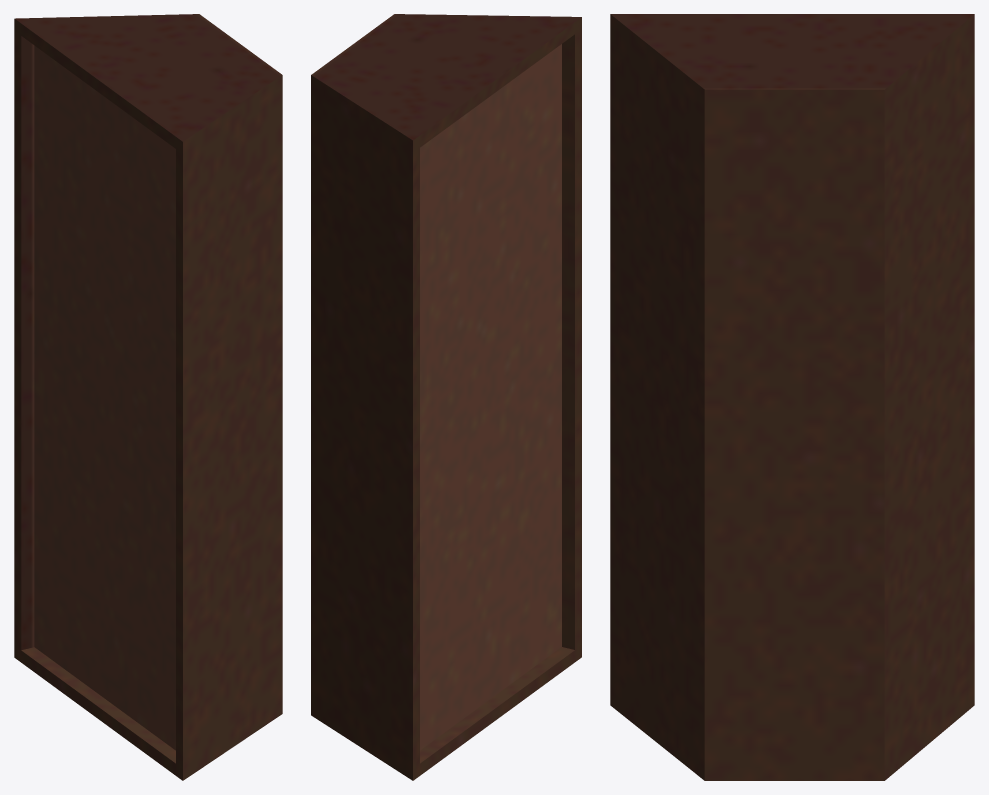
File: wooden_chest_lid.fbx
3 renders of one model, left to right at view 1: azimuth 30°, elevation 25°; view 2: azimuth 150°, elevation 25°; view 3: azimuth 270°, elevation 25°, orthographic. The views are drawn at different scales.
Visible parts, largest first — view 1: Wooden Chest Lid; view 2: Wooden Chest Lid; view 3: Wooden Chest Lid.
Part boxes in pixels (left/top/right/bottom): Wooden Chest Lid: left=14, top=14, right=282, bottom=780; Wooden Chest Lid: left=311, top=14, right=581, bottom=780; Wooden Chest Lid: left=610, top=14, right=974, bottom=780.
Bounding box in the file's own units: 0.4954 × 1.01 × 2.11.
1 material, 1 textured.
